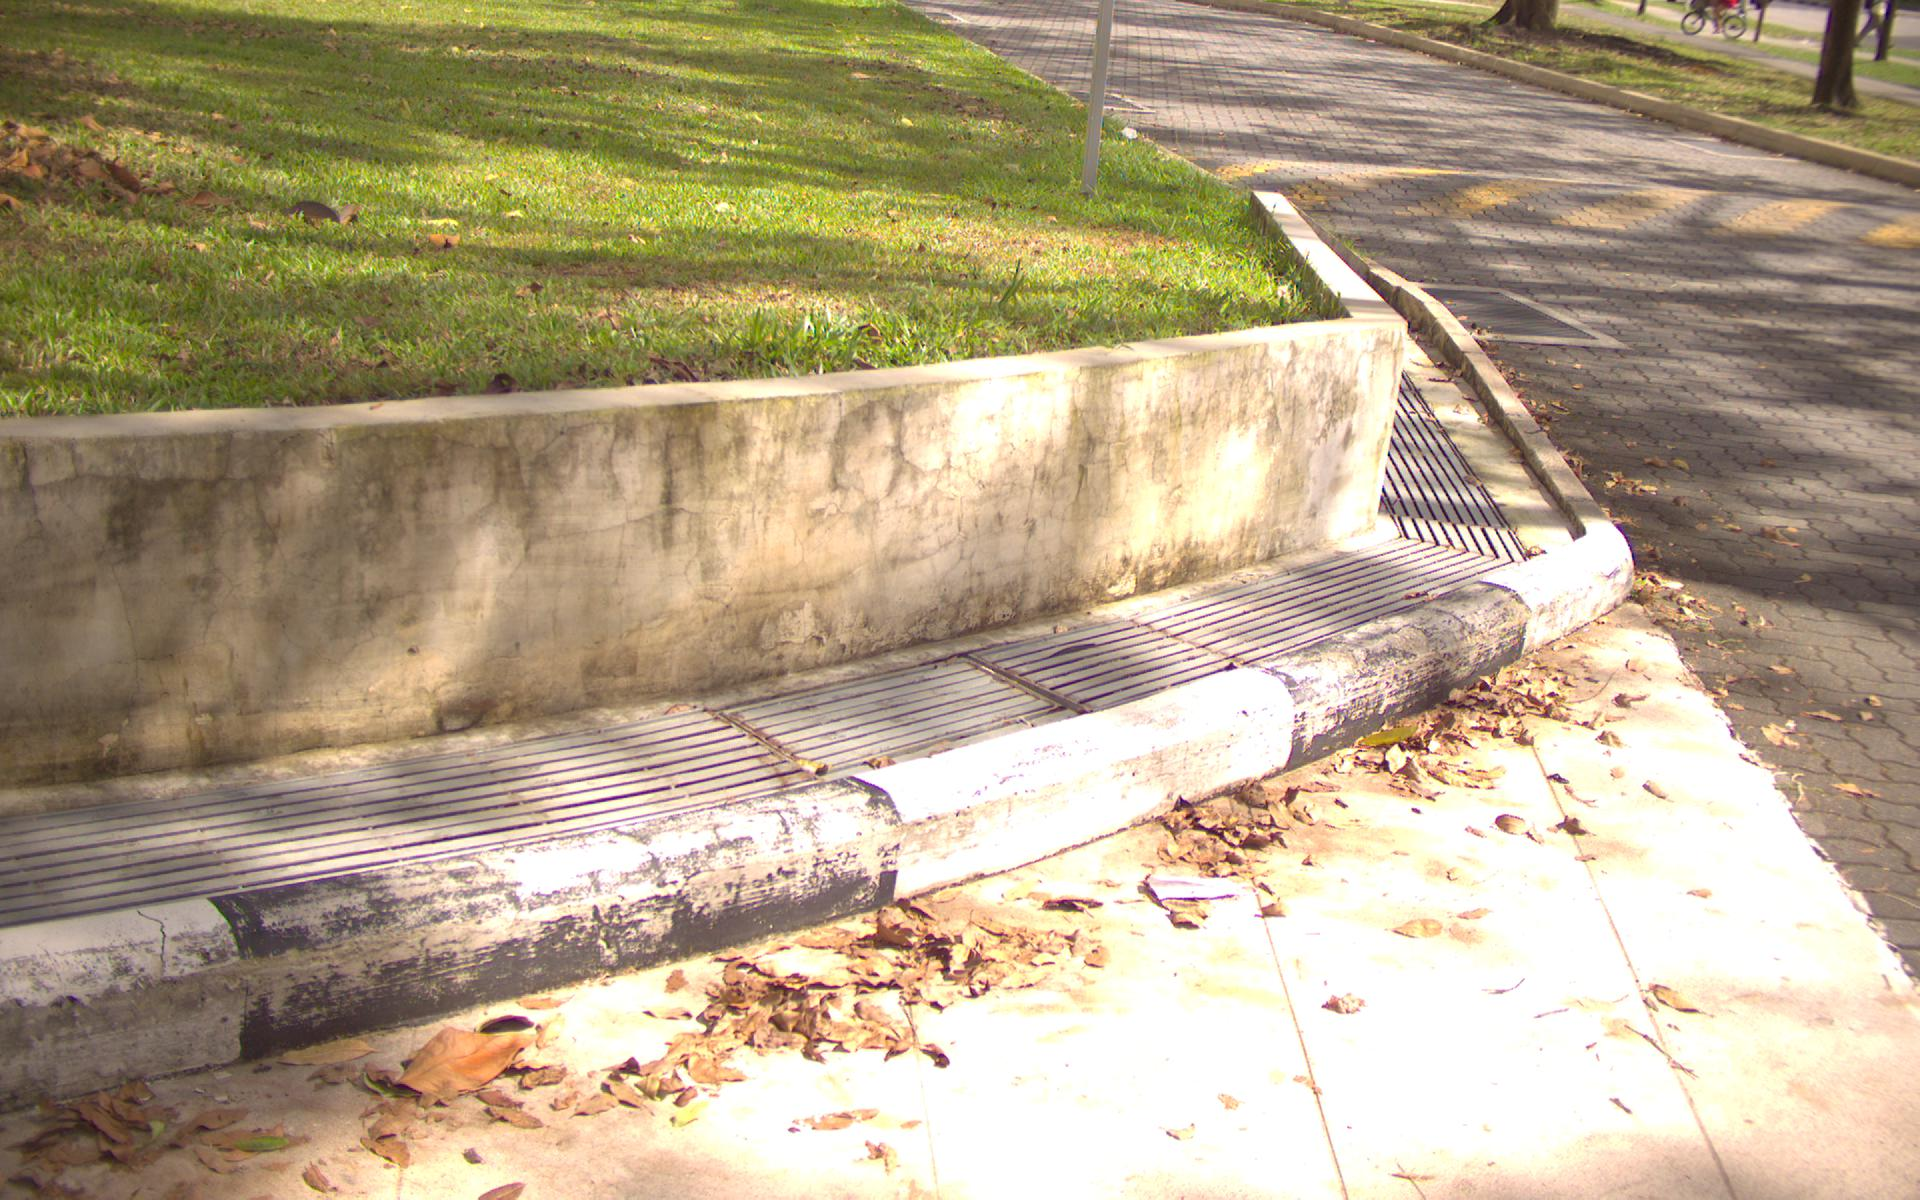curb_dic_low: (76, 722, 756, 823)
pathway_low: (1591, 188, 1914, 466)
road_curb_medium: (346, 1022, 1192, 1163)
road_turf_low: (6, 3, 916, 347)
